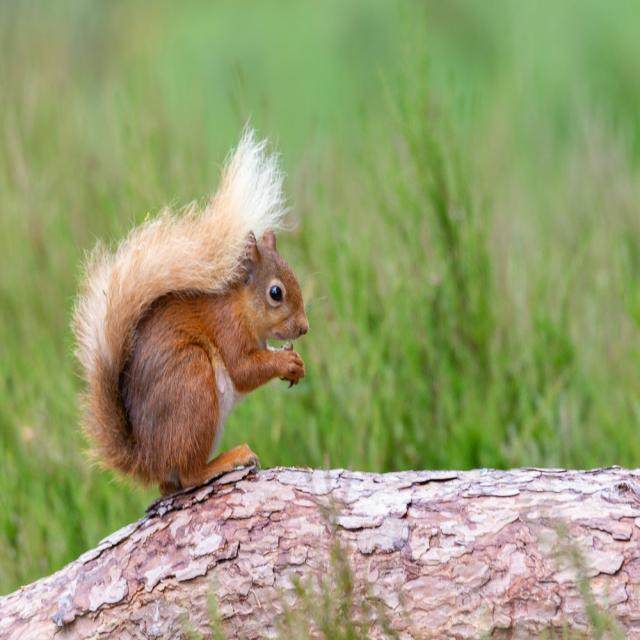Squirrel: (73, 143, 308, 524)
